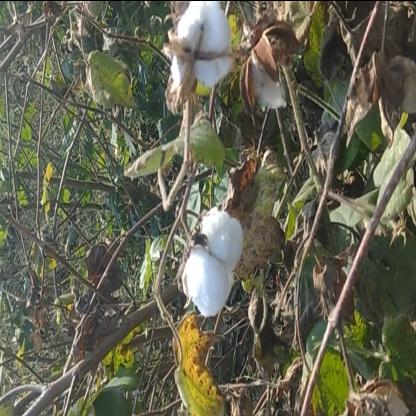cotton_ready: (172, 184, 249, 320), (163, 1, 244, 102)
